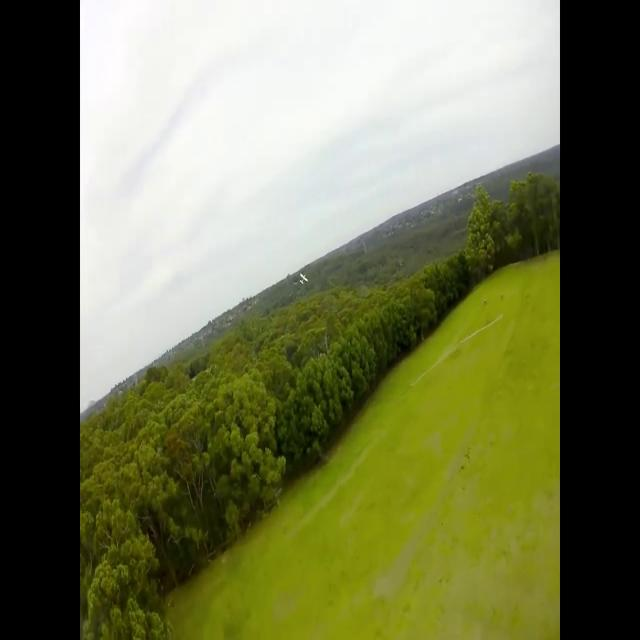iha: (302, 271, 306, 286)
